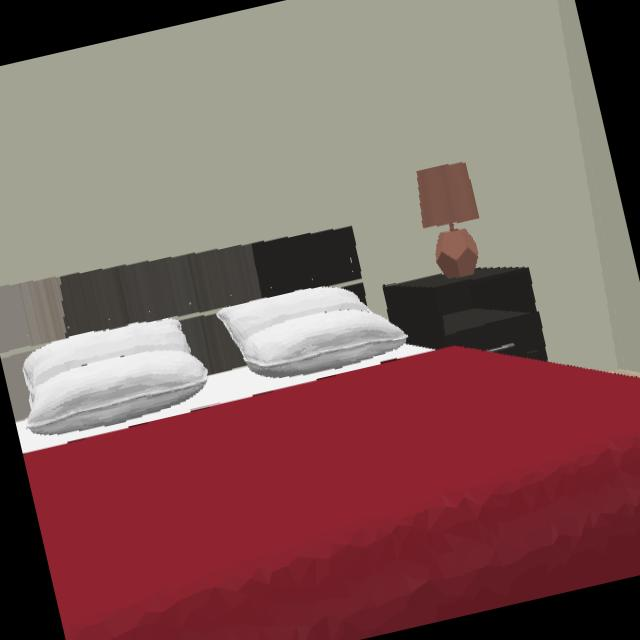bed: (15, 227, 640, 640)
lamp: (418, 163, 480, 280)
nighttable: (382, 268, 548, 360)
pillow: (174, 285, 411, 385), (22, 320, 214, 440)
